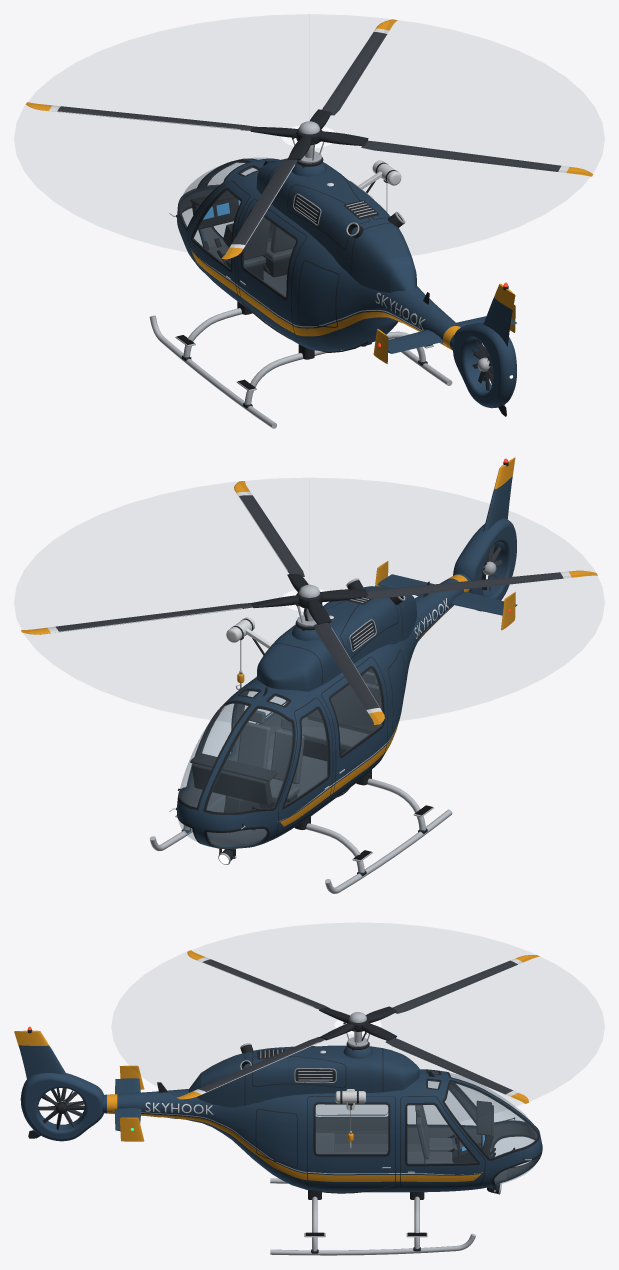
Rendered from skyhook.glb.
3 renders of one model, top to bottom at view 1: azimuth 30°, elevation 25°; view 2: azimuth 150°, elevation 25°; view 3: azimuth 270°, elevation 25°, orthographic. The views are drawn at different scales.
Visible parts, largest first — view 1: body, rotor_main, glass, interior; view 2: body, glass, interior, rotor_main; view 3: body, glass, interior, rotor_main.
Boxes of the visible parts, bbox=[...] form: body: bbox=[149, 157, 516, 428]; rotor_main: bbox=[25, 19, 593, 259]; glass: bbox=[179, 158, 295, 297]; interior: bbox=[180, 162, 295, 296]; body: bbox=[149, 457, 517, 893]; glass: bbox=[179, 669, 382, 848]; interior: bbox=[181, 669, 381, 845]; rotor_main: bbox=[21, 481, 597, 724]; body: bbox=[14, 1029, 542, 1255]; glass: bbox=[316, 1070, 540, 1184]; interior: bbox=[315, 1072, 537, 1181]; rotor_main: bbox=[176, 950, 539, 1103].
Bounding box in the file's own units: 8.4 × 3.87 × 10.05.
